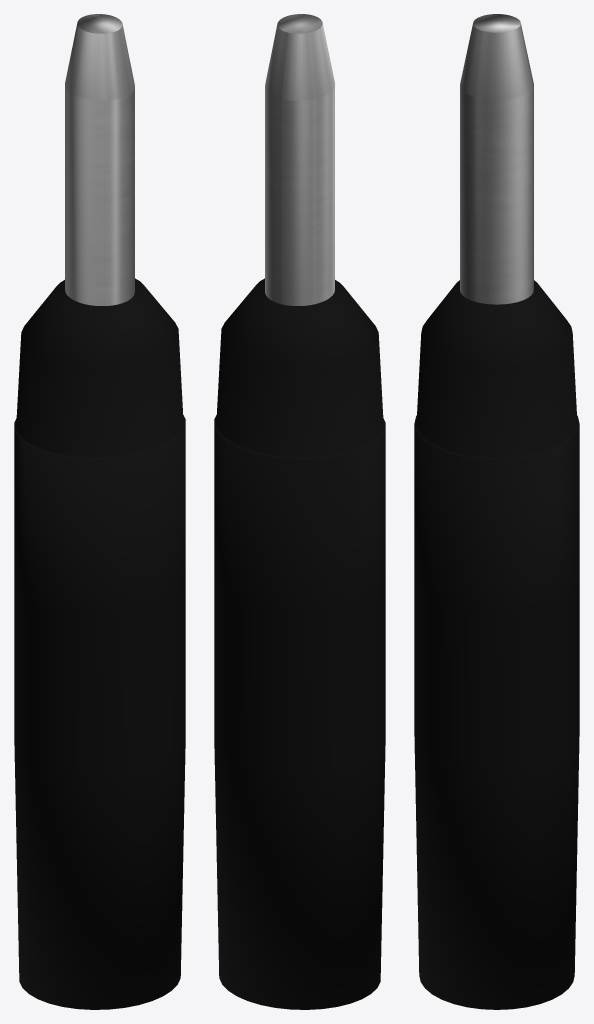
The model's file is cables_conector_N.fbx.
3 renders of one model, left to right at view 1: azimuth 30°, elevation 25°; view 2: azimuth 150°, elevation 25°; view 3: azimuth 270°, elevation 25°, orthographic.
Visible parts, largest first — view 1: Cylinder, Cylinder.001; view 2: Cylinder, Cylinder.001; view 3: Cylinder, Cylinder.001.
Boxes of the visible parts, box(x1,y1,x2,y2) form: Cylinder: box(14, 278, 185, 1009); Cylinder.001: box(65, 14, 134, 305); Cylinder: box(214, 278, 385, 1009); Cylinder.001: box(265, 14, 334, 305); Cylinder: box(414, 280, 579, 1009); Cylinder.001: box(460, 14, 533, 304).
Bounding box in the file's own units: 130 × 785 × 123.
